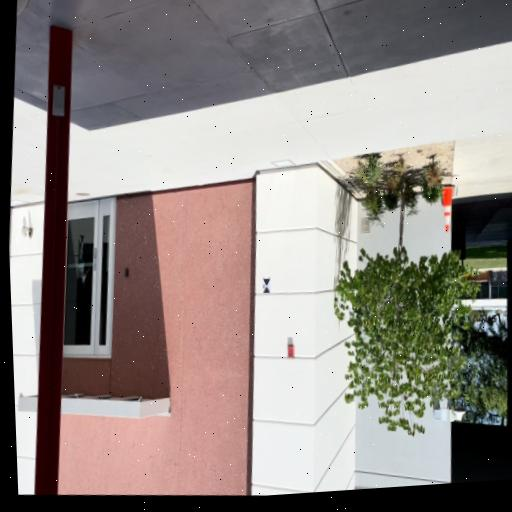target9: (262, 278, 271, 293)
